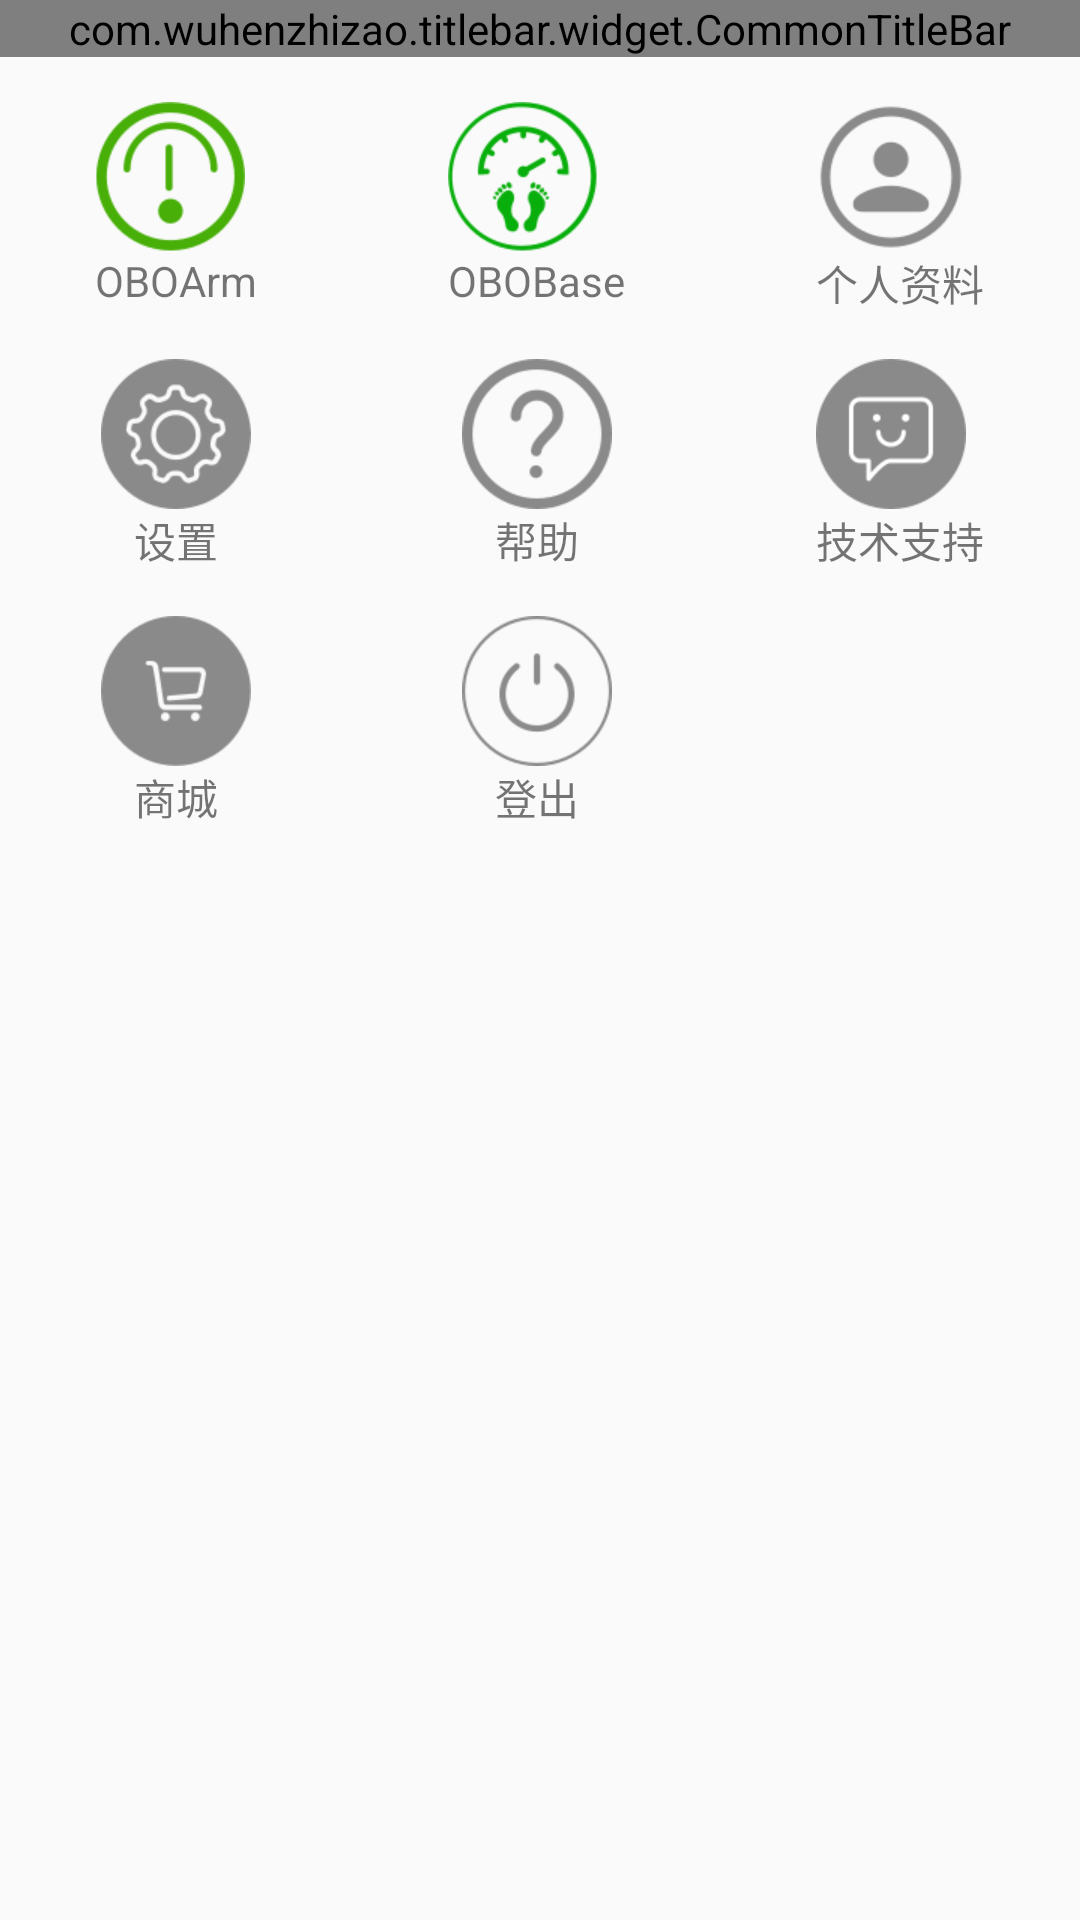

Where icons sit on this 1080px x 1920px app screen, as rect(x1, y1, x2, y2):
goumai up: rect(101, 616, 251, 766)
tizhi down: rect(448, 102, 597, 251)
